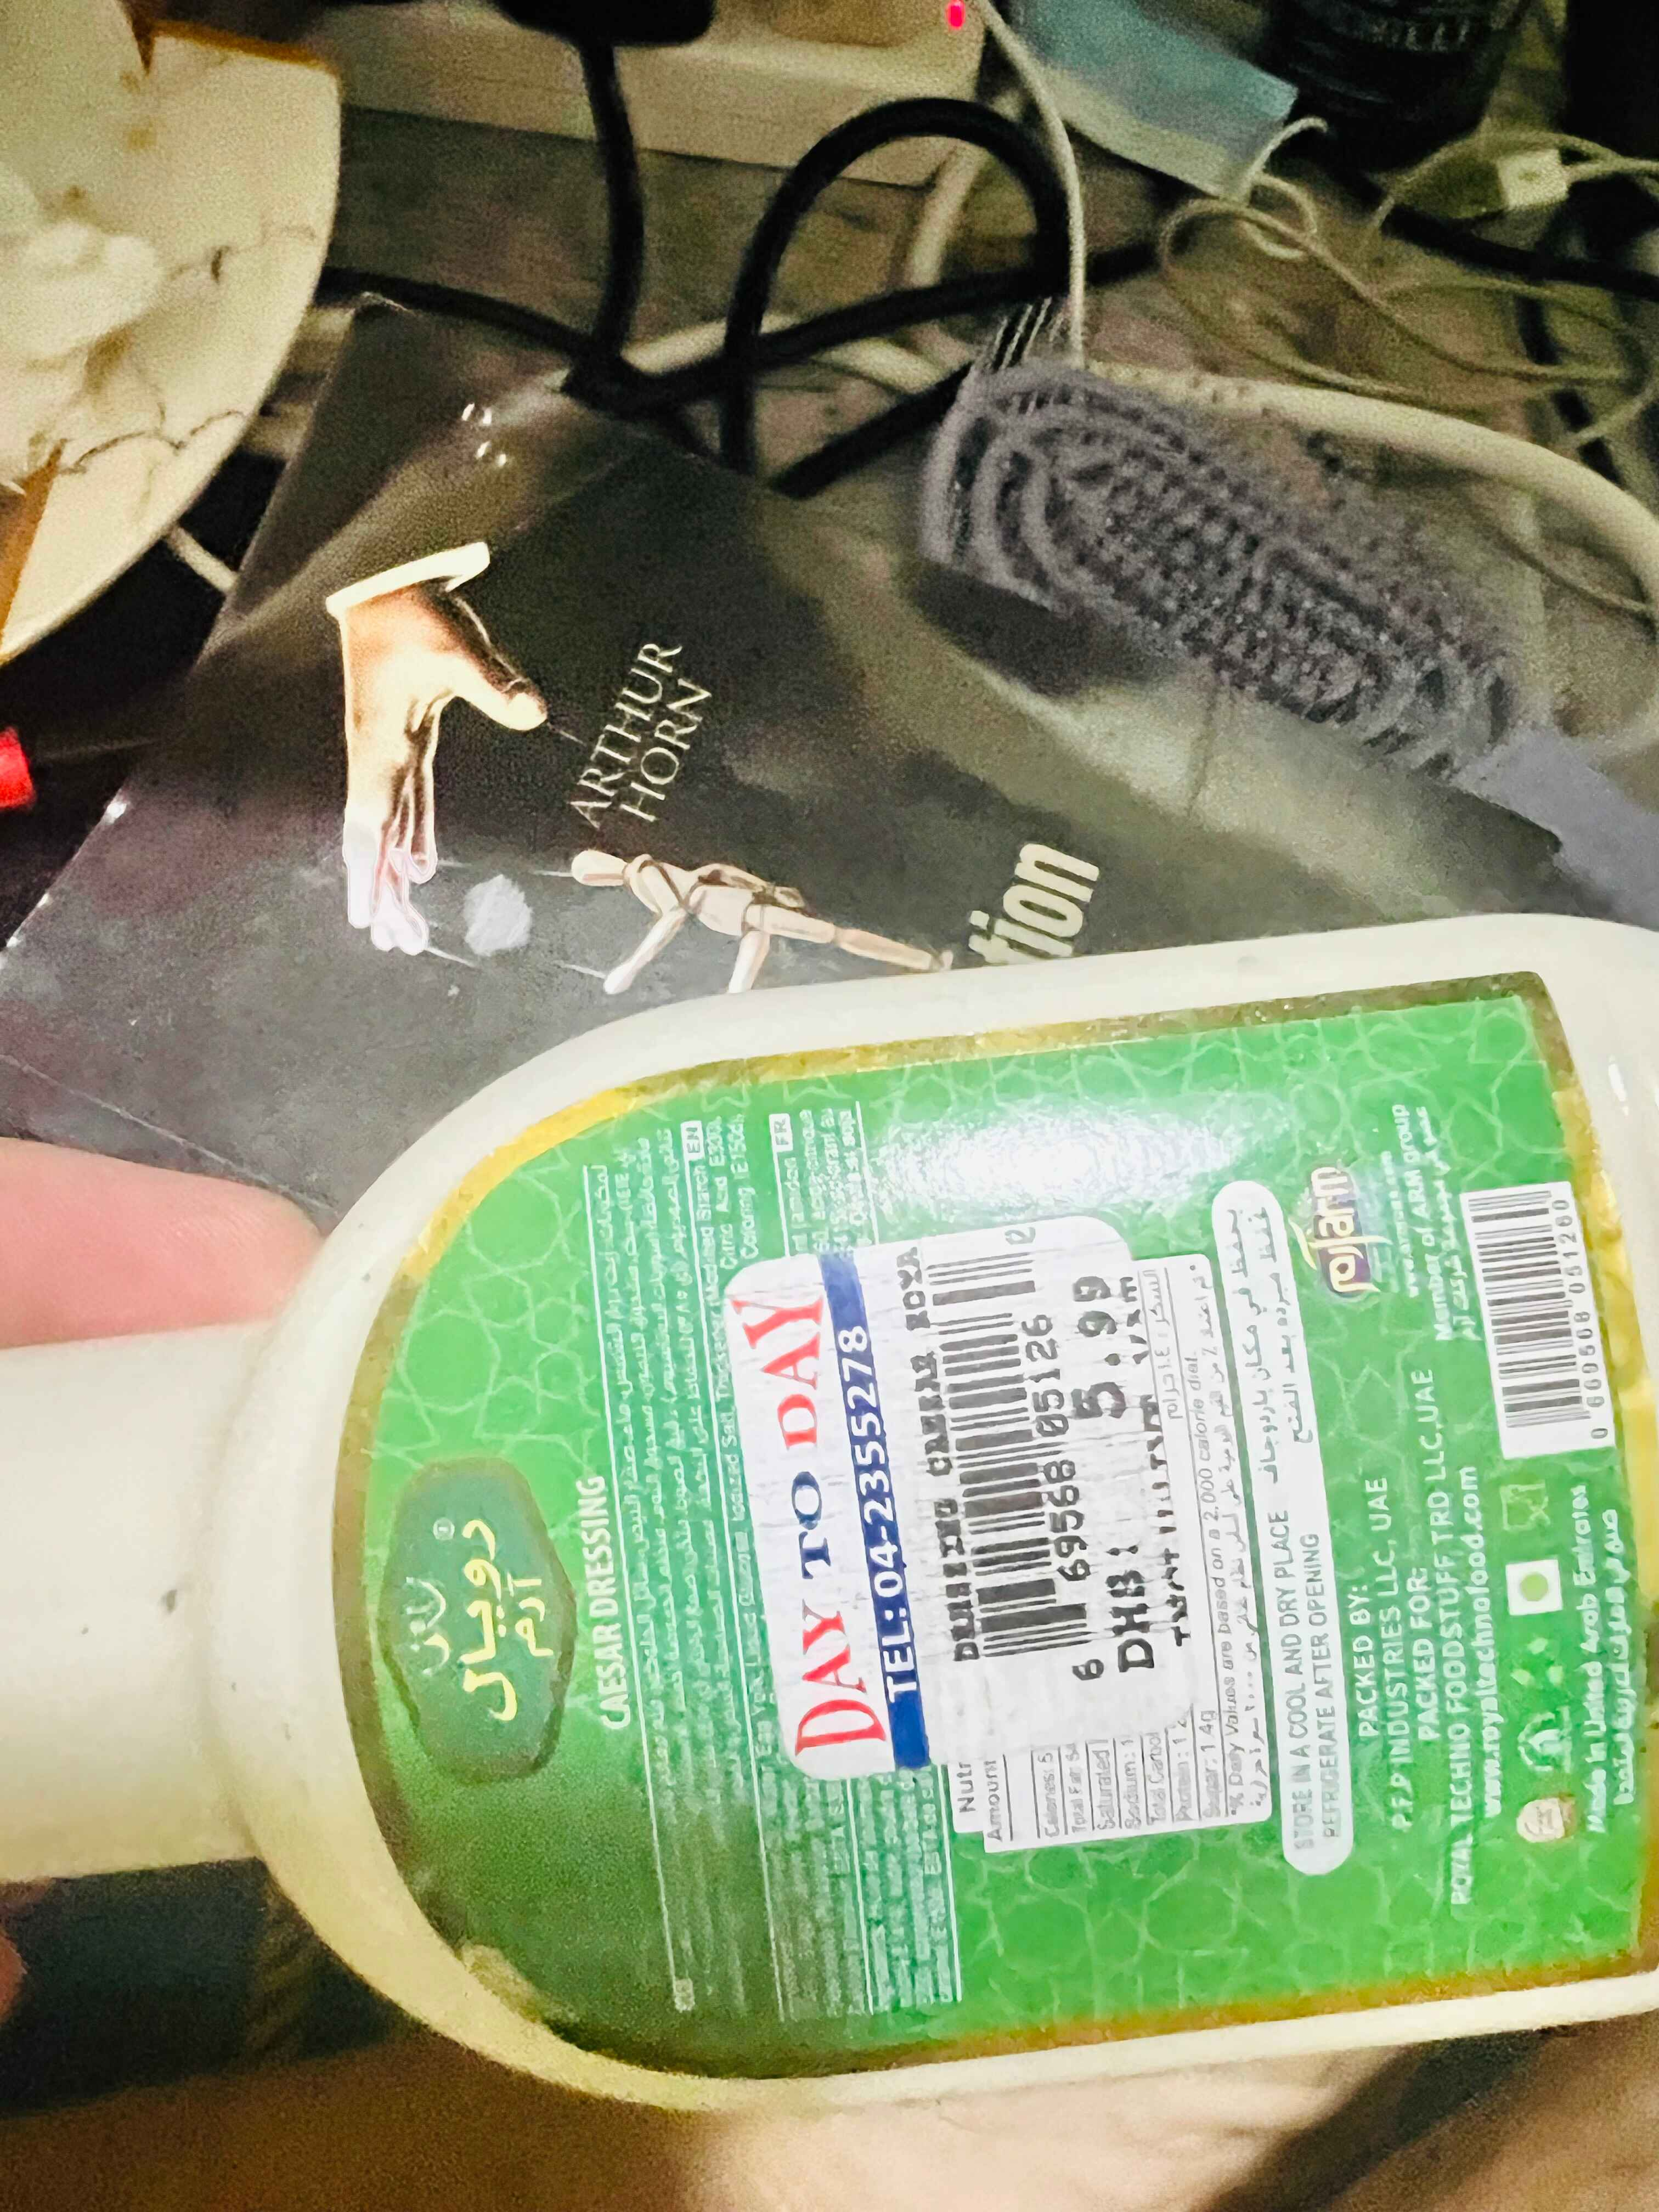PriceTagBig: (725, 1219, 1211, 1806)
